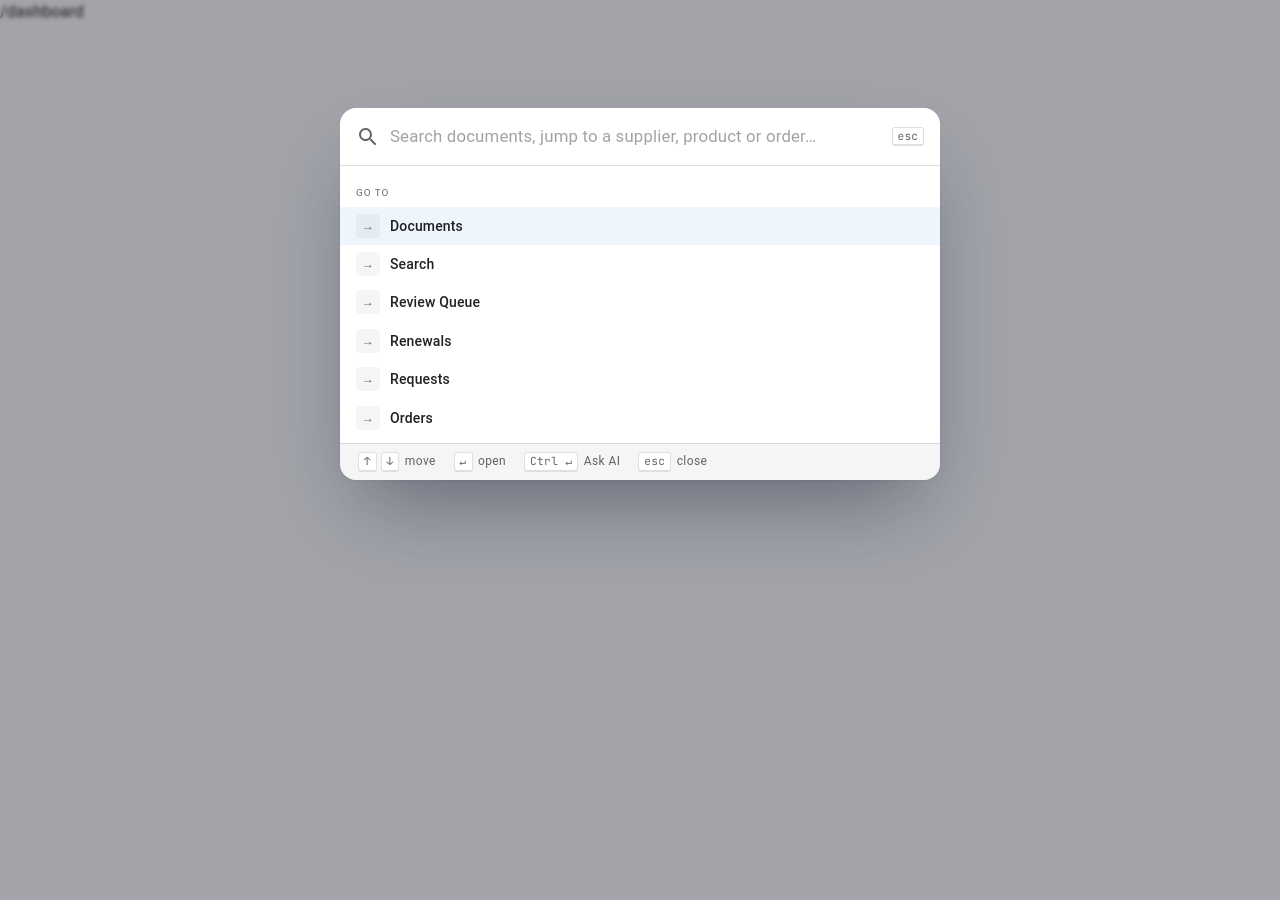
Test: CommandPalette (⌘K / Ctrl-K) › shows how the words will read, and Enter searches on /search
The image size is (1280, 900).
Type "lot 104" into the field with test id "palette-input" at (636, 137), box [390,120,882,153]
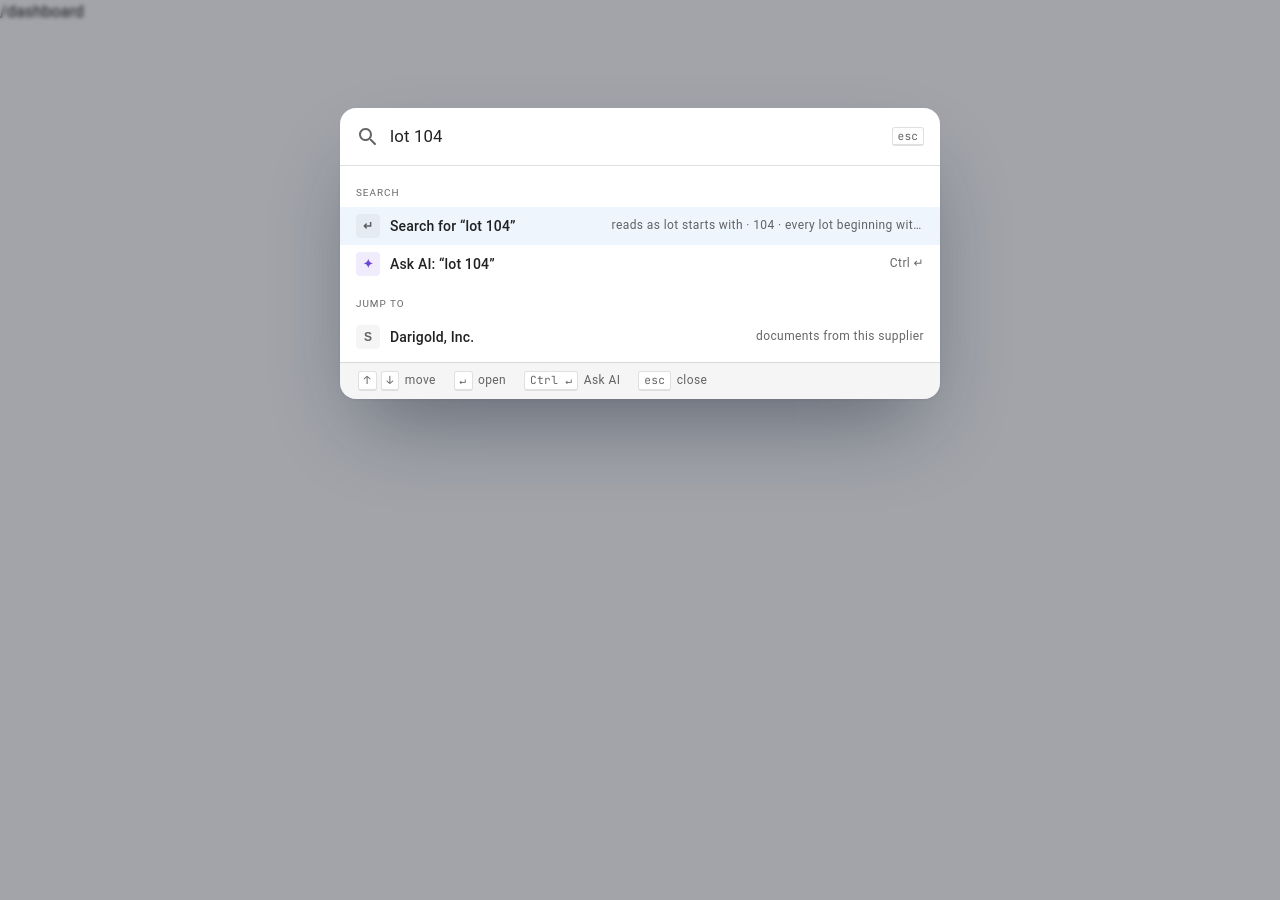
Check: the text "reads as lot starts with · 104 · every lot beginning with it" is shown, box [612,216,924,236]
Press Enter
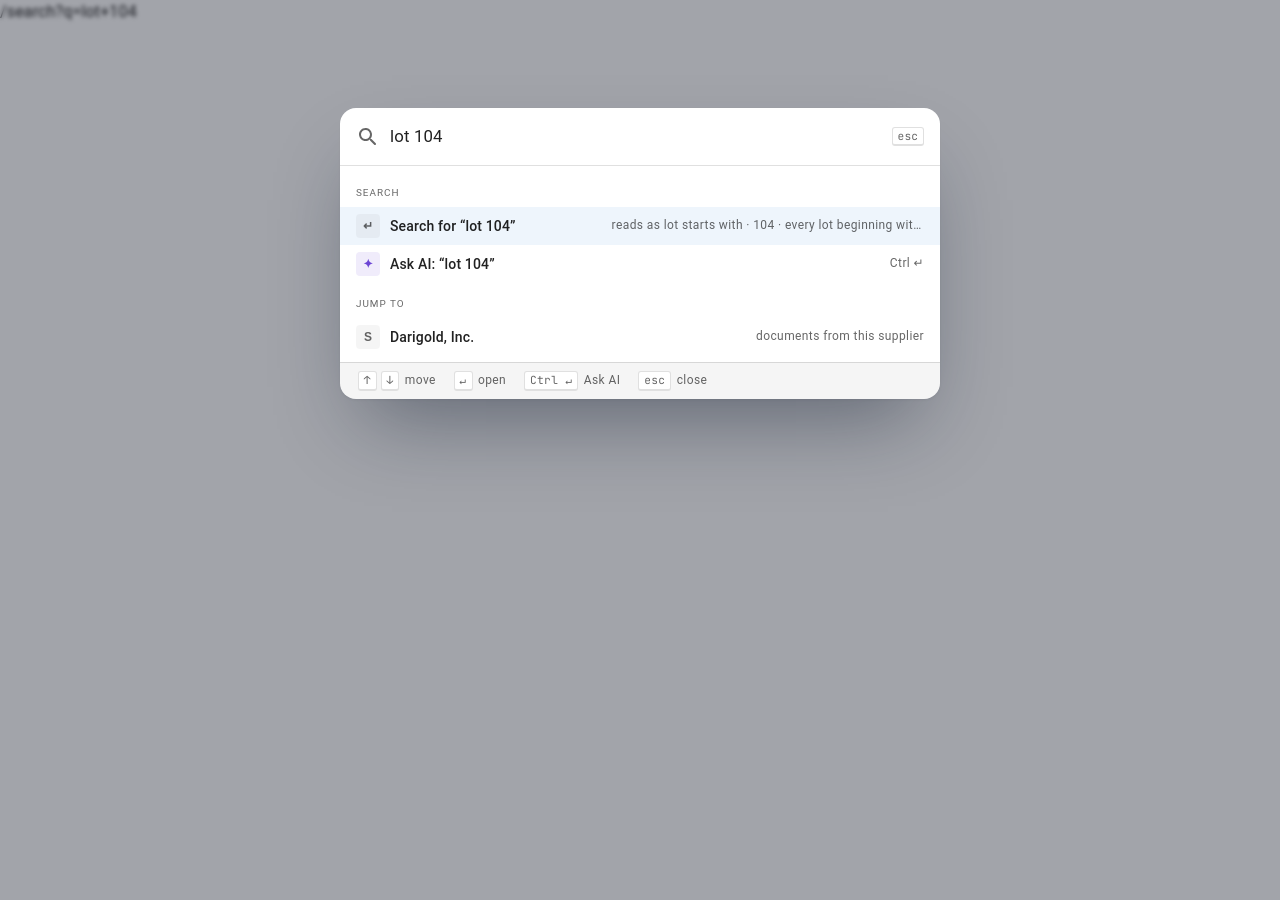
Check: the text with test id "where" reads "/search?q=lot+104", box [0,2,137,21]
